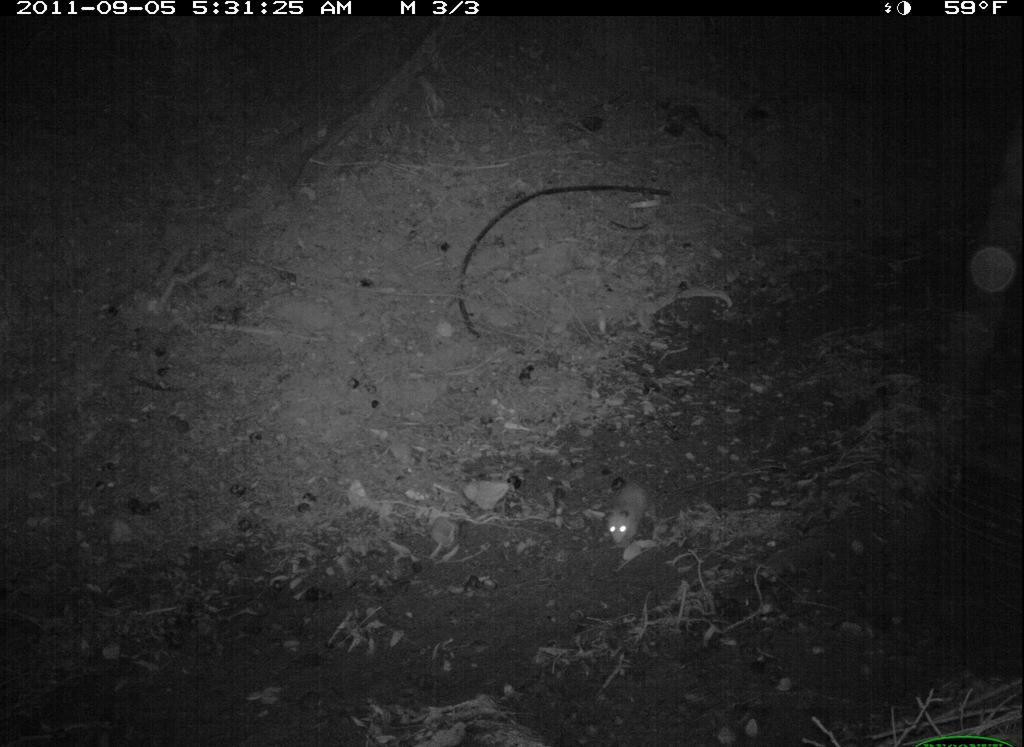opossum: (593, 466, 671, 562)
